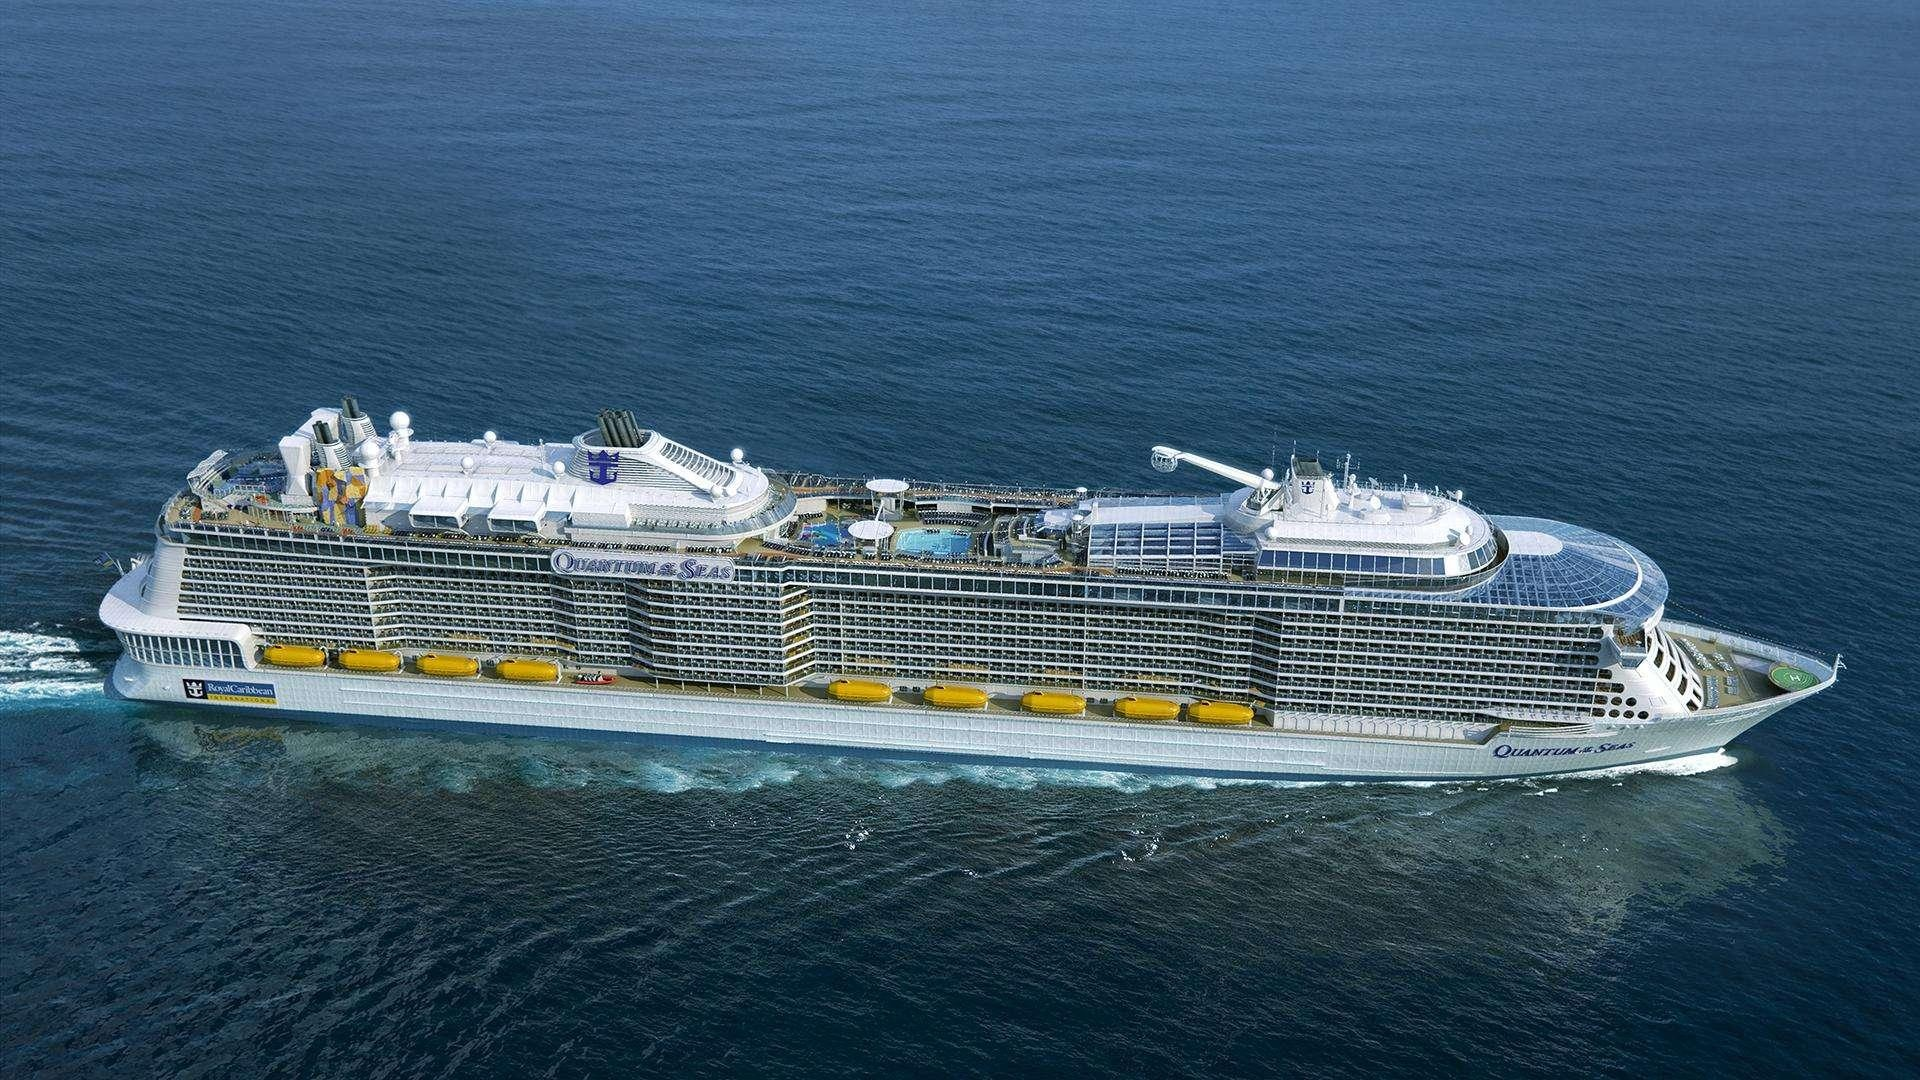youlun: (92, 407, 1853, 785)
